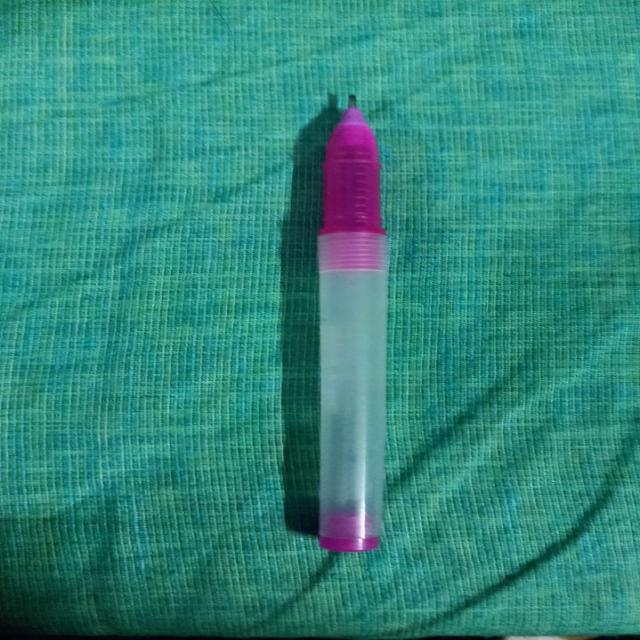pen: (279, 90, 405, 558)
